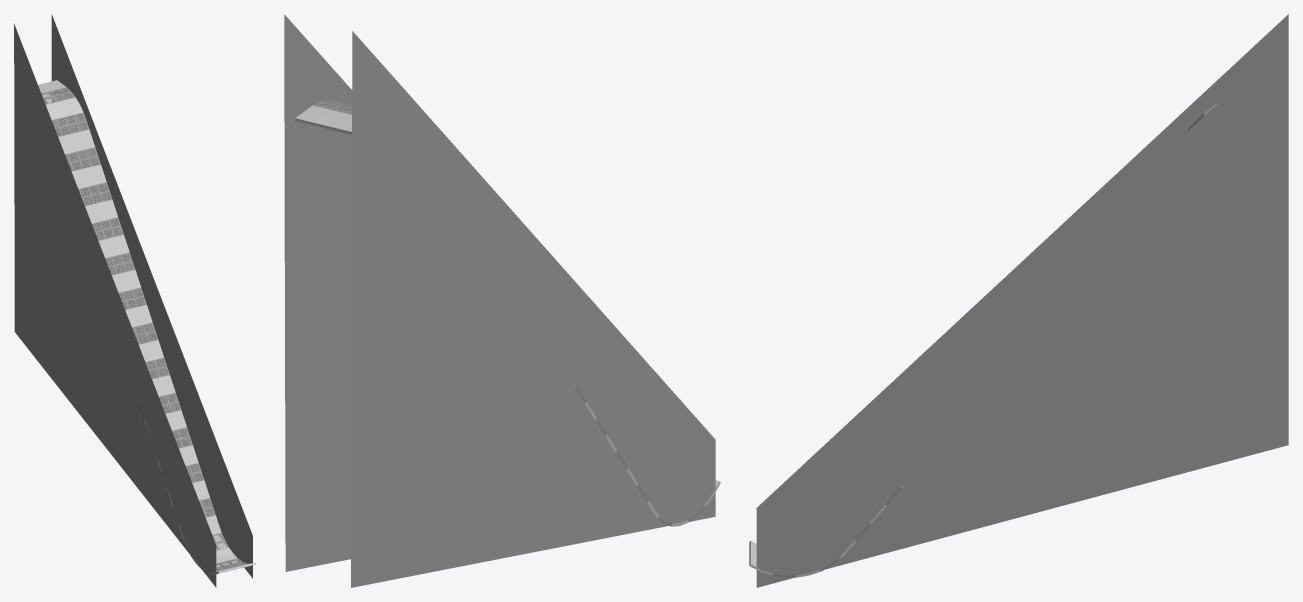
3 renders of one model, left to right at view 1: azimuth 30°, elevation 25°; view 2: azimuth 150°, elevation 25°; view 3: azimuth 270°, elevation 25°, orthographic. The views are drawn at different scales.
Parts seen in each view (by area): view 1: colider, u4; view 2: colider, u4; view 3: colider, u4.
Boxes of the visible parts, x1,y1,x2,y2 form: colider: (14,14,252,587); u4: (38,80,255,574); colider: (284,14,715,587); u4: (295,100,720,526); colider: (756,14,1288,587); u4: (749,103,1217,577).
Bounding box in the file's own units: 2553 × 26990 × 23987.
